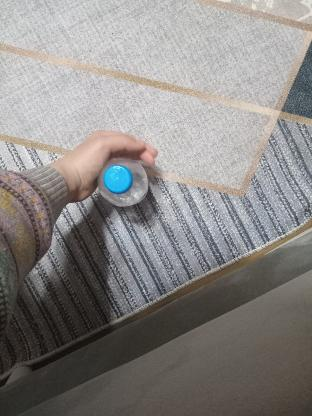Plastic Bottle: (98, 156, 148, 208)
